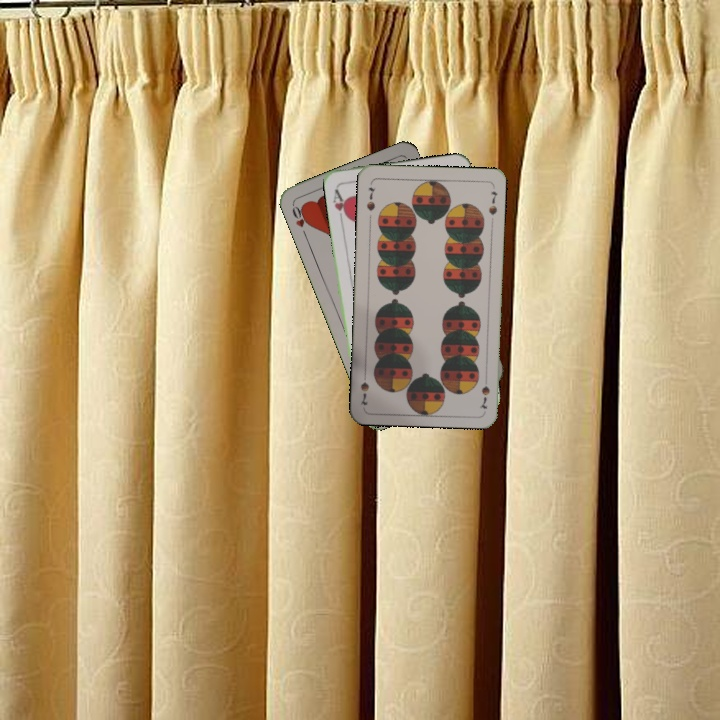HA: (329, 185, 351, 224)
HO: (288, 201, 313, 240)
S7: (476, 372, 492, 411), (362, 183, 378, 213)
